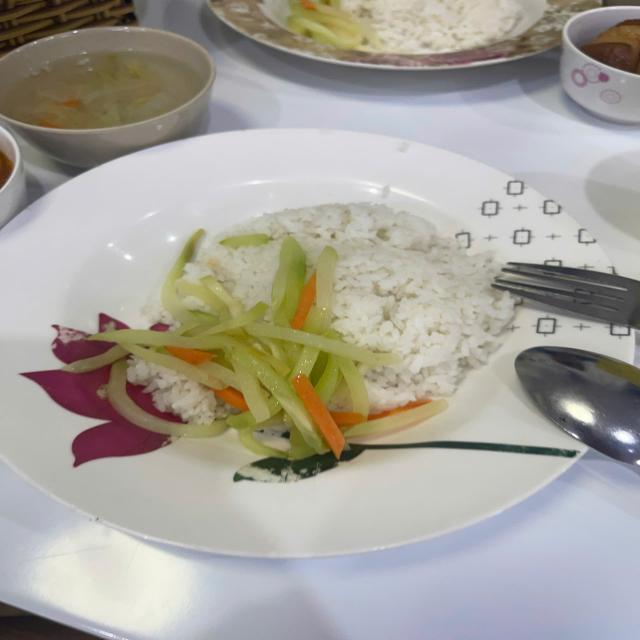canh cai: (0, 52, 204, 130)
com: (186, 202, 516, 411), (127, 359, 230, 424)
rau: (62, 231, 447, 459)
